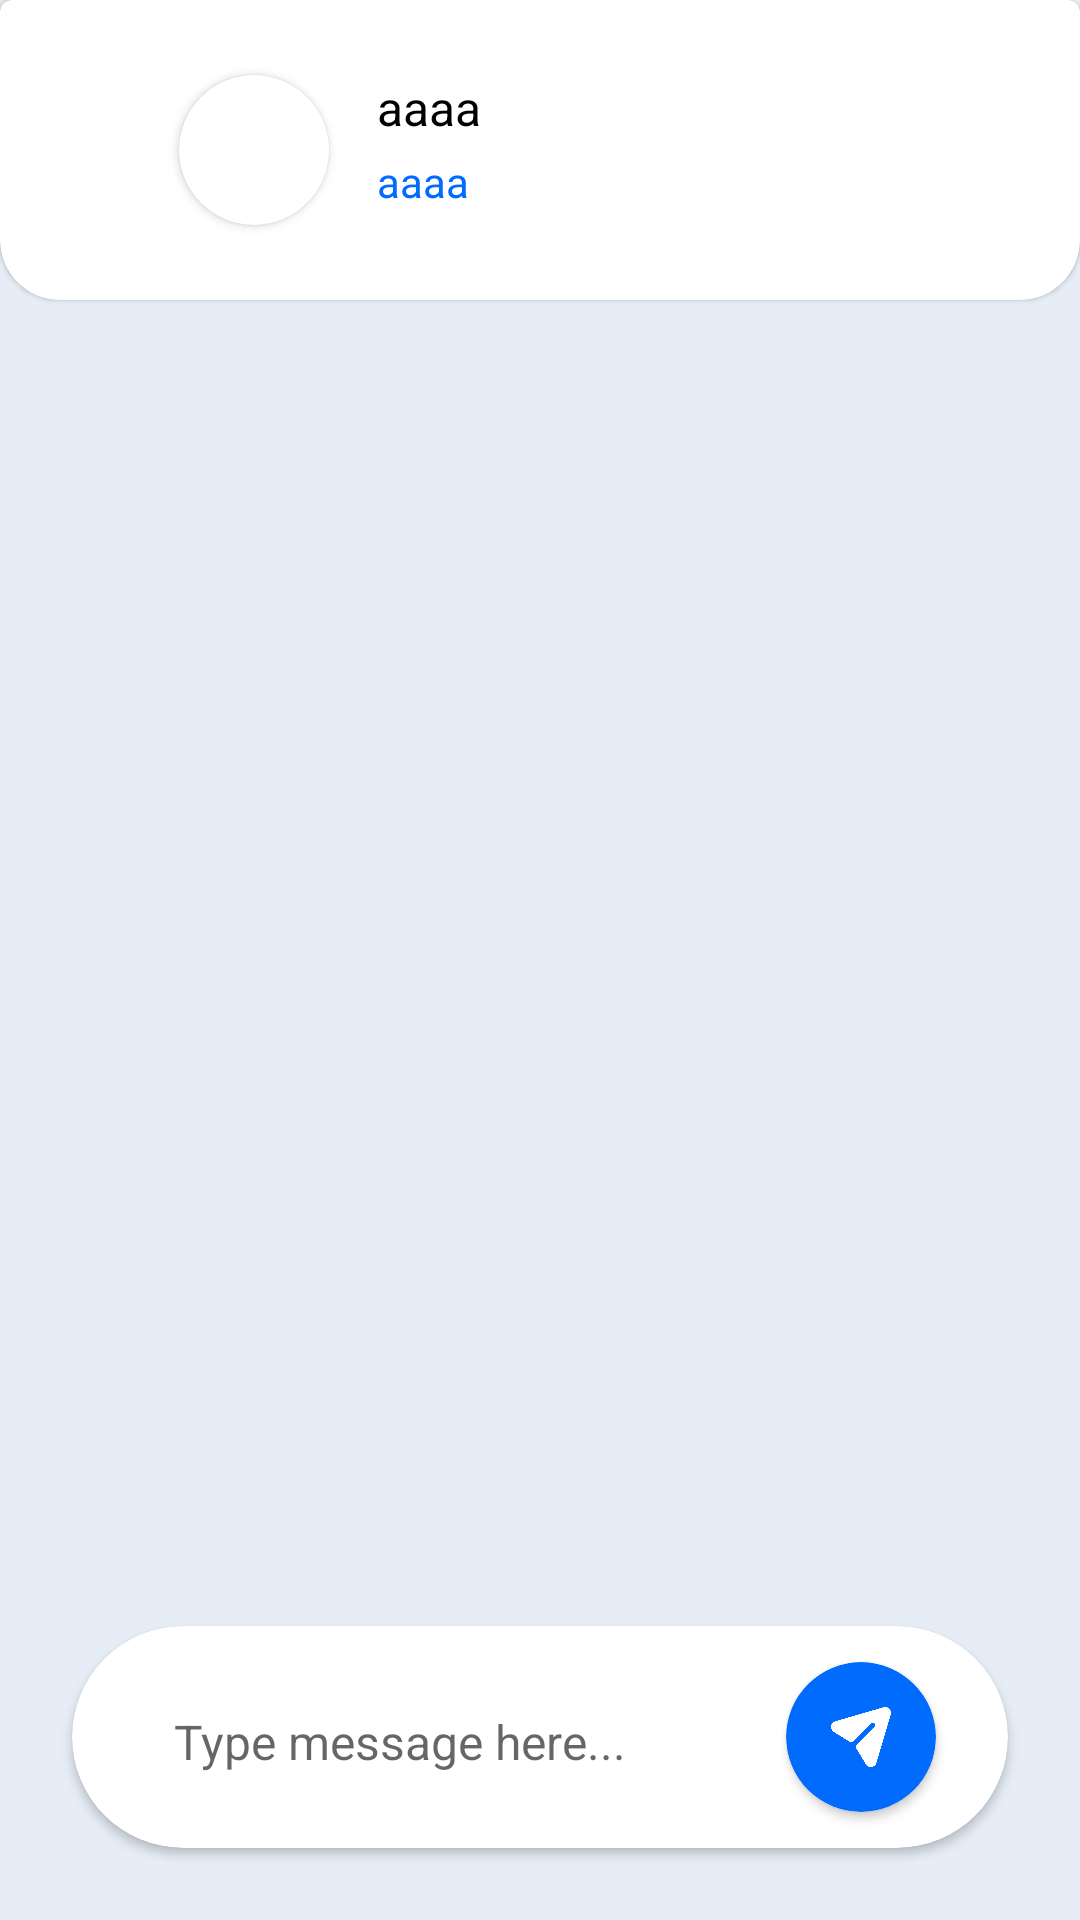

Where to tap for icons on this 1080 x 1920 app screen, as (x=x, y=y):
send message: (x=861, y=1737)
